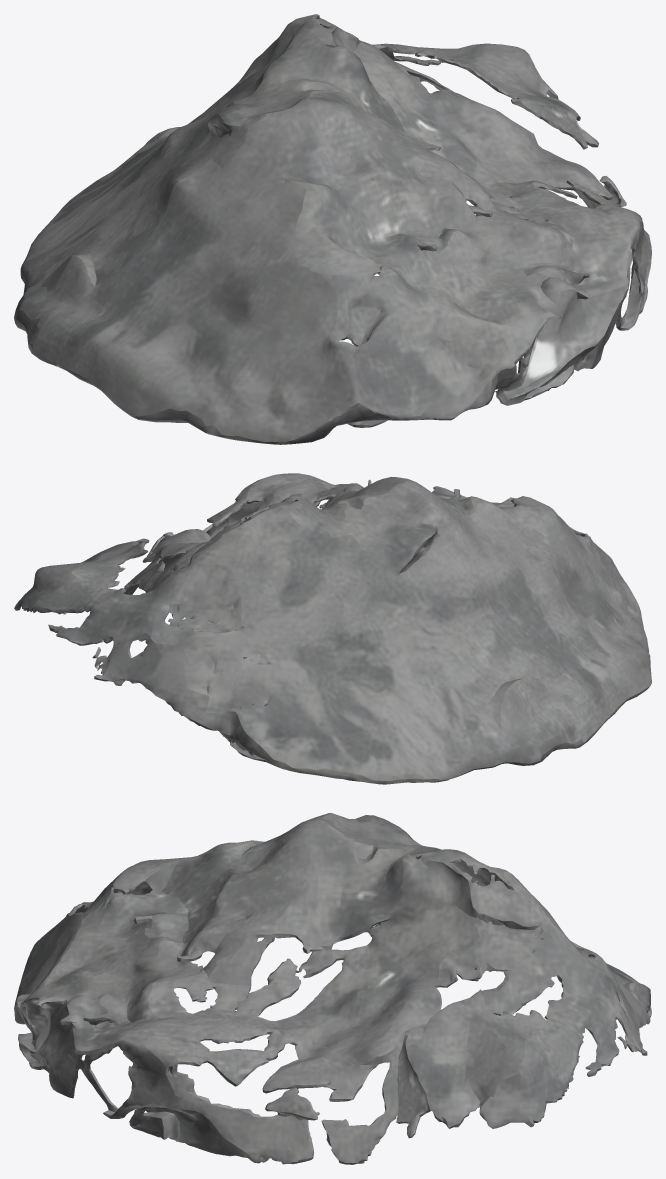
3 renders of one model, top to bottom at view 1: azimuth 30°, elevation 25°; view 2: azimuth 150°, elevation 25°; view 3: azimuth 270°, elevation 25°, orthographic. The views are drawn at different scales.
Visible parts, largest first — view 1: world; view 2: world; view 3: world.
Part boxes in pixels (x1,y1,x2,y2): world: (14, 14, 651, 444); world: (14, 473, 651, 784); world: (14, 813, 651, 1164).
Bounding box in the file's own units: 0.32 × 0.1194 × 0.3128.
Materials: 1 (1 with a texture image).
